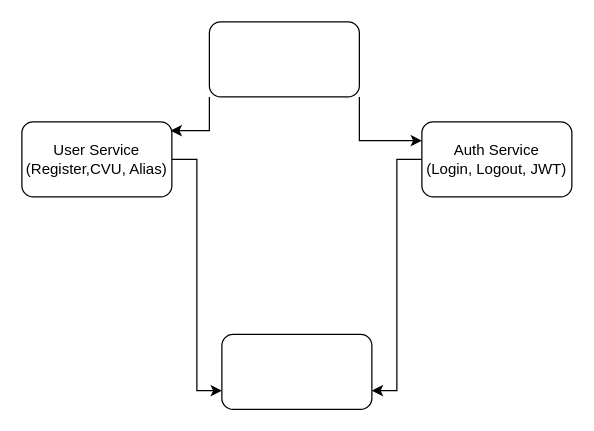
Image size: 594x431. Some labels were removed from this diagram. Here are the shapes that lost their labels. From the top down, the centre of each, then its label:
At point (283, 59): "API Gateway".
At point (296, 371): "Eureka (Service Discovery)".
